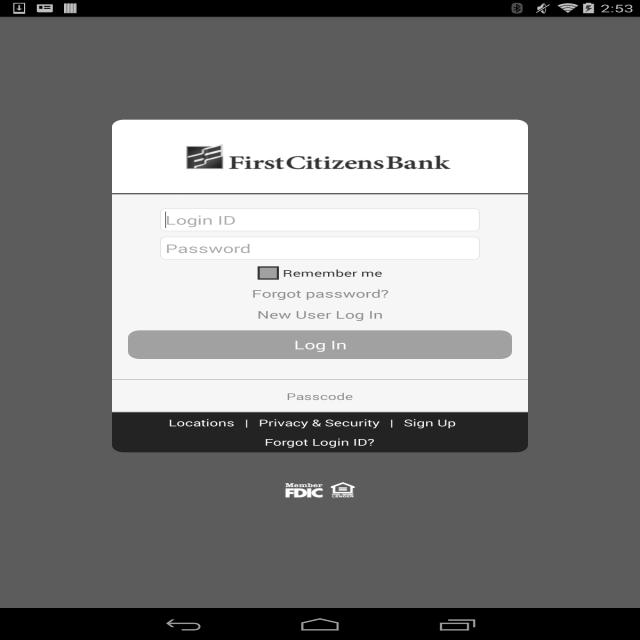Button: (128, 330, 512, 359)
CheckBox: (258, 266, 382, 280)
EditText: (160, 208, 480, 232), (160, 237, 480, 260)
ImageView: (144, 123, 496, 190), (123, 475, 517, 505)
TextView: (160, 452, 480, 468), (249, 283, 391, 304), (255, 304, 385, 325), (256, 413, 382, 432), (262, 432, 377, 452), (166, 413, 237, 432), (402, 413, 458, 432), (286, 390, 353, 403), (239, 413, 254, 432), (384, 413, 399, 432)
